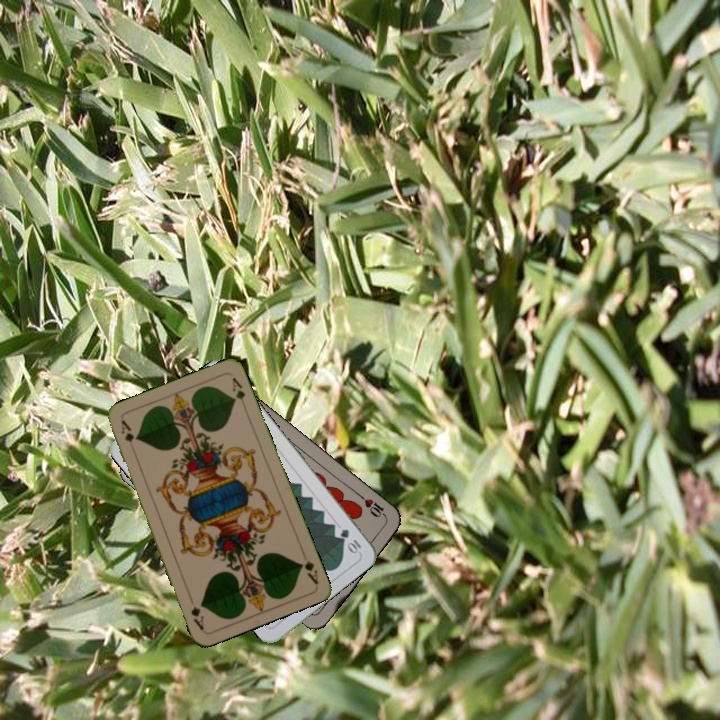G10: (336, 525, 364, 556)
GA: (296, 548, 321, 586), (117, 416, 137, 445)
H10: (356, 491, 390, 522)
